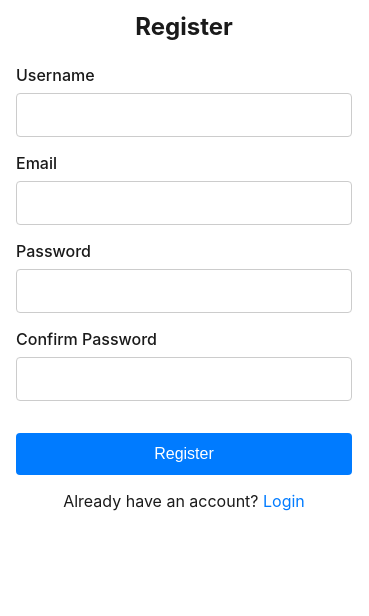
Test case: RegisterForm Component › should display validation error for password mismatch
Type "securepass123" into the password field labelled "Password" at (184, 291), box [16,269,352,313]
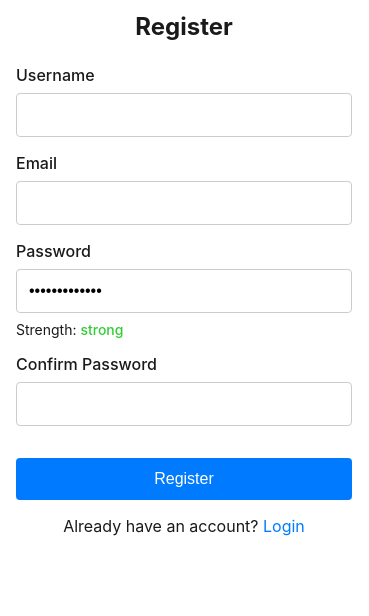
Type "differentpass" into the password field labelled "Confirm Password" at (184, 404), box [16,382,352,426]
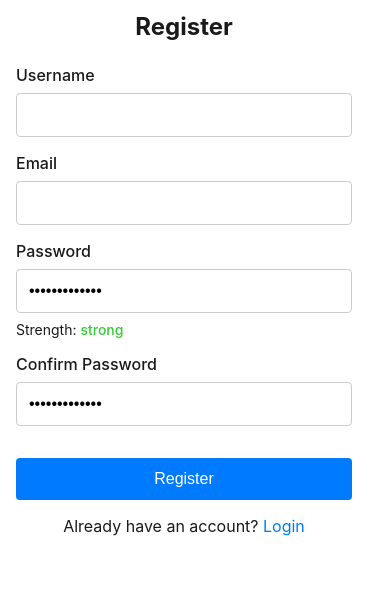
Click the button "Register" at (184, 479), box [16,458,352,500]
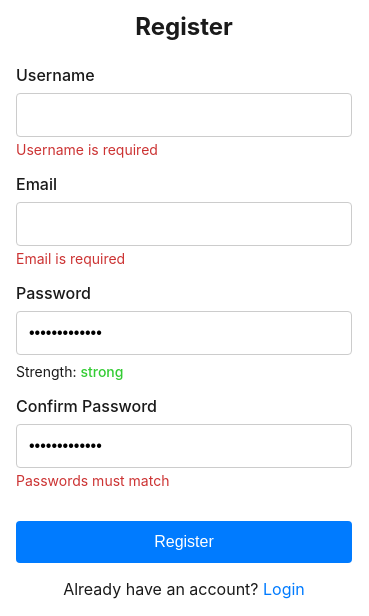
Check: the text "Passwords must match" is shown, box [16,472,169,489]
